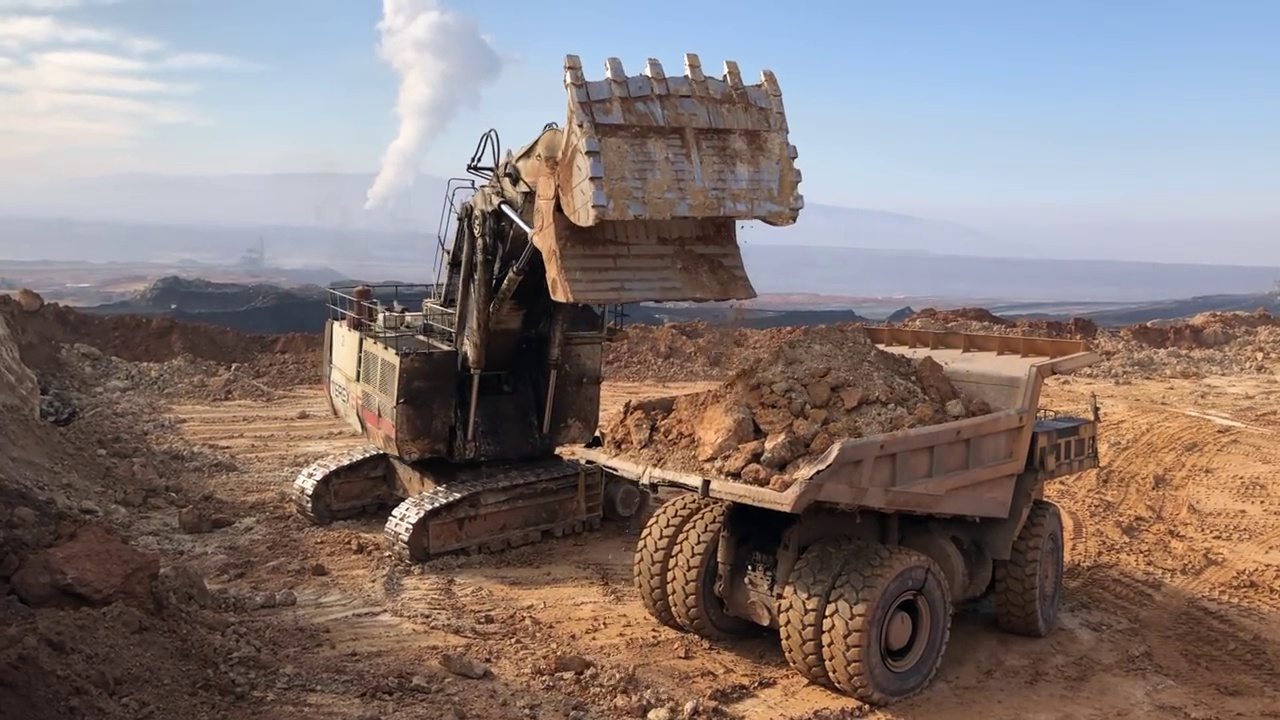dumper: (554, 326, 1103, 704)
excavator: (285, 53, 804, 574)
